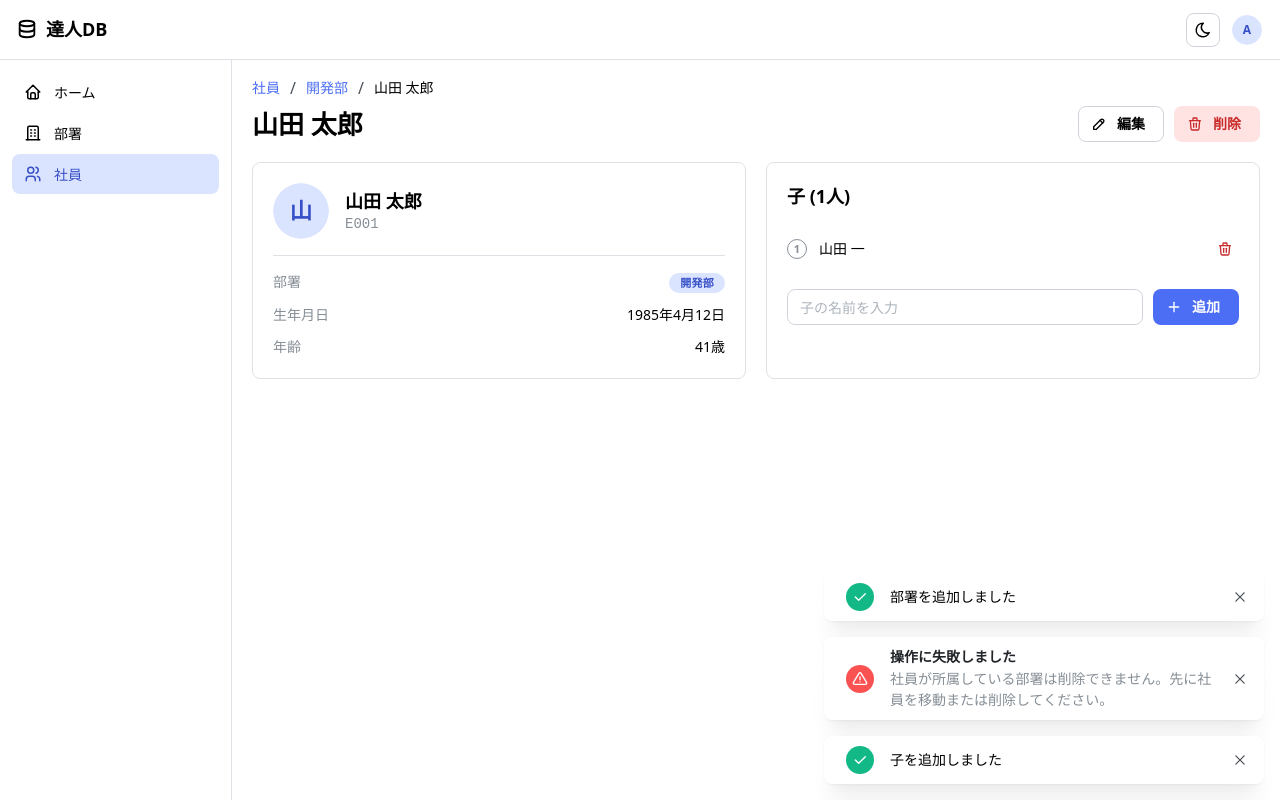
Test: 社員 › 子の削除は確認モーダルを経由して DELETE を呼ぶ
Click the button named "山田 一を削除": (1225, 249) [1211,235,1239,263]
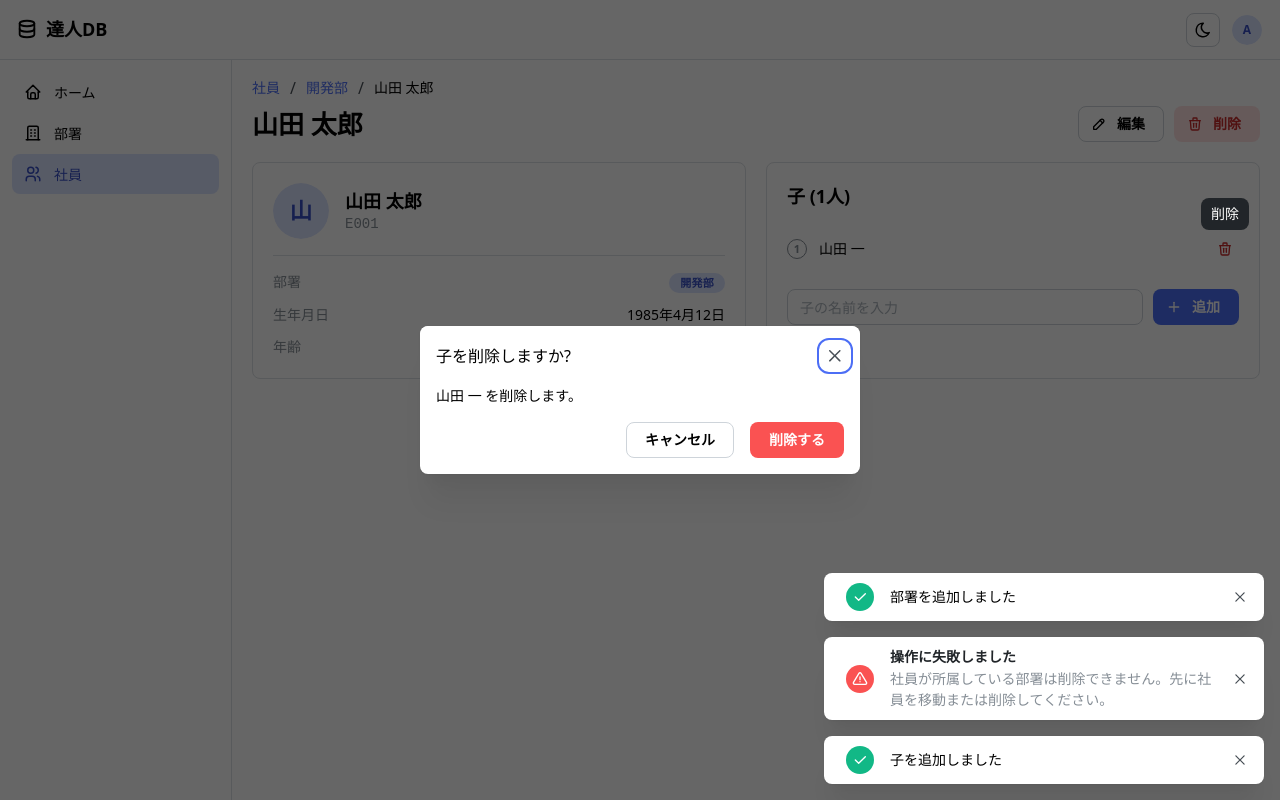
Click the button "削除する": (797, 440) [750,422,844,458]
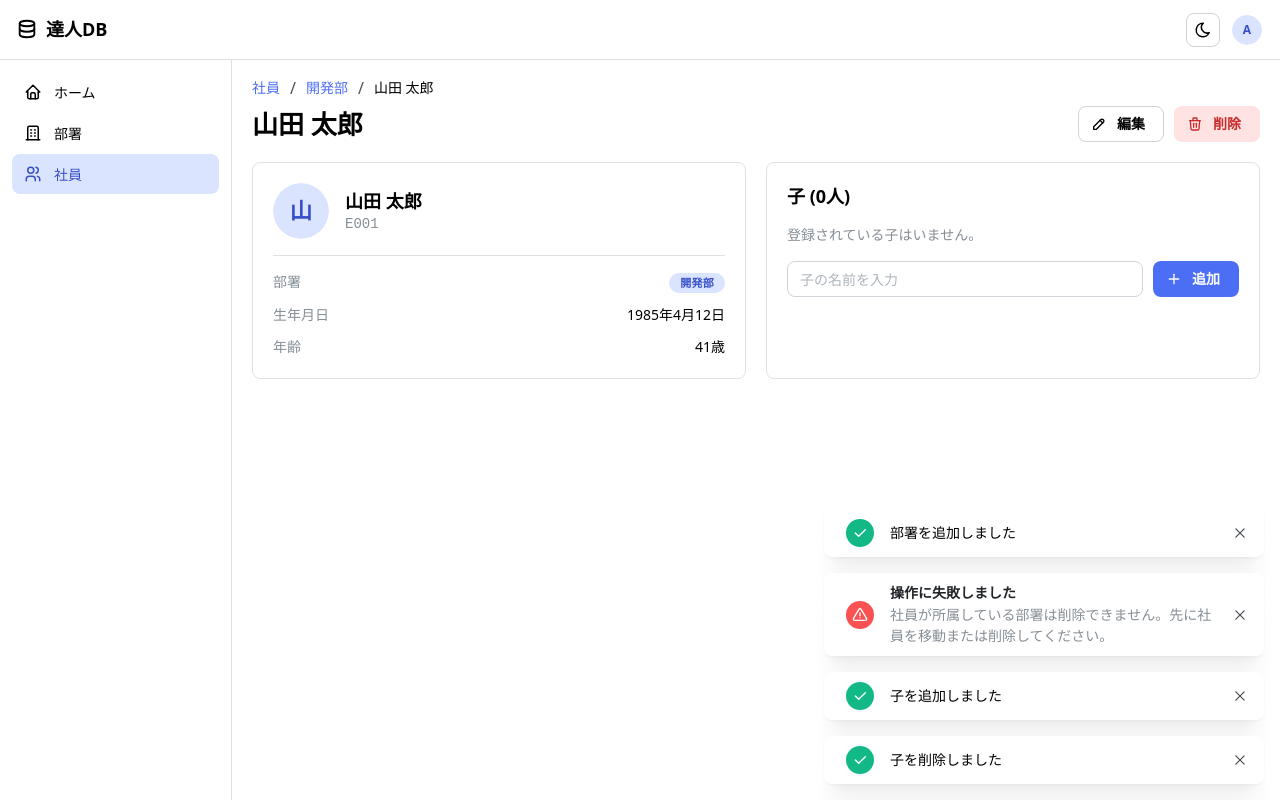
Expected: the text "山田 一" is gone
